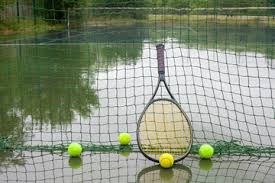tennis_ball: (159, 152, 173, 169), (199, 143, 213, 159), (67, 142, 81, 156), (118, 132, 130, 146)
